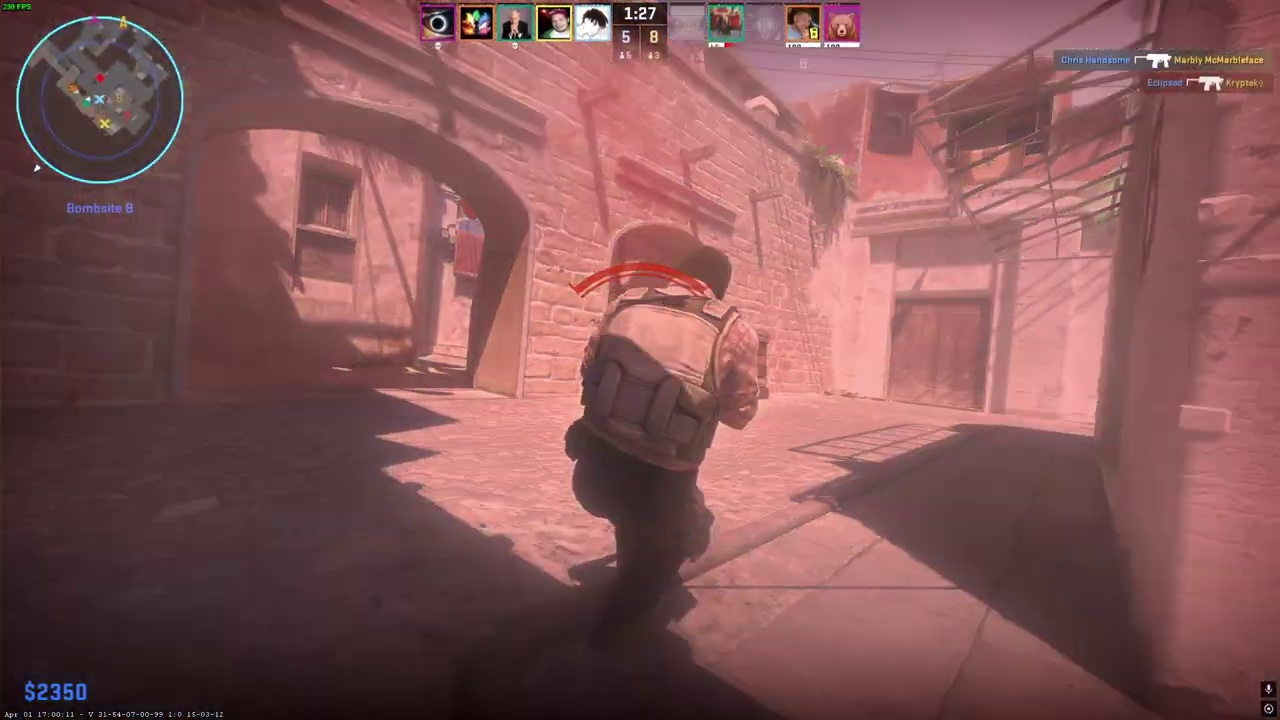Terrorist: (564, 245, 757, 653)
